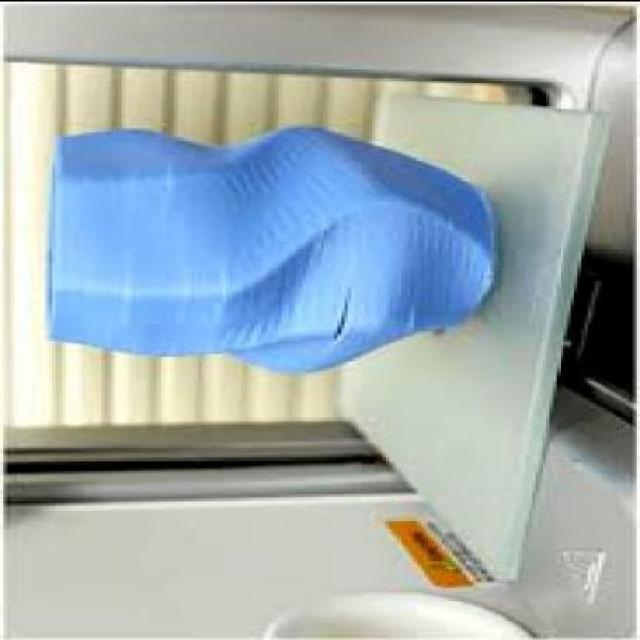Warping: (310, 261, 381, 365)
